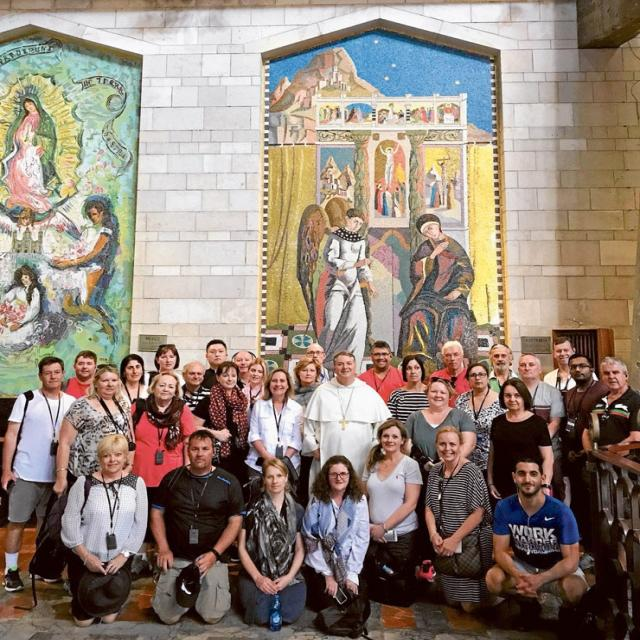body: (268, 70, 503, 356), (0, 40, 125, 354), (25, 361, 138, 585), (145, 427, 245, 626), (484, 456, 591, 638), (0, 355, 79, 595), (59, 433, 150, 629), (419, 423, 499, 622), (300, 349, 394, 515), (130, 370, 195, 580), (233, 456, 310, 628), (294, 452, 374, 617), (403, 375, 480, 537), (354, 415, 424, 589), (560, 352, 614, 572), (485, 376, 556, 518), (453, 362, 511, 516), (243, 366, 305, 501), (188, 360, 251, 484), (579, 354, 640, 458), (517, 352, 566, 461), (292, 356, 322, 508), (357, 339, 408, 406), (427, 338, 475, 408), (542, 335, 601, 391), (387, 354, 432, 425), (143, 342, 189, 389), (242, 356, 270, 429), (486, 342, 521, 395), (179, 360, 212, 415), (62, 349, 98, 398), (120, 353, 150, 408), (200, 337, 229, 390), (304, 341, 338, 386), (232, 348, 257, 391), (627, 355, 639, 386)
